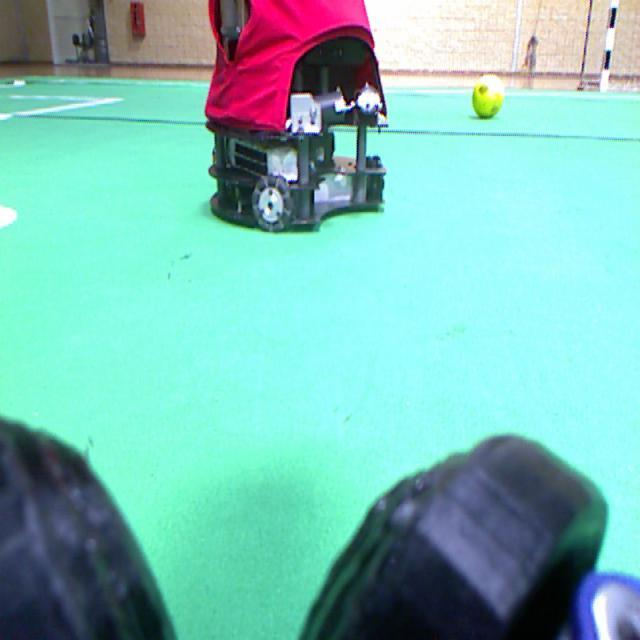ball: (472, 75, 503, 117)
